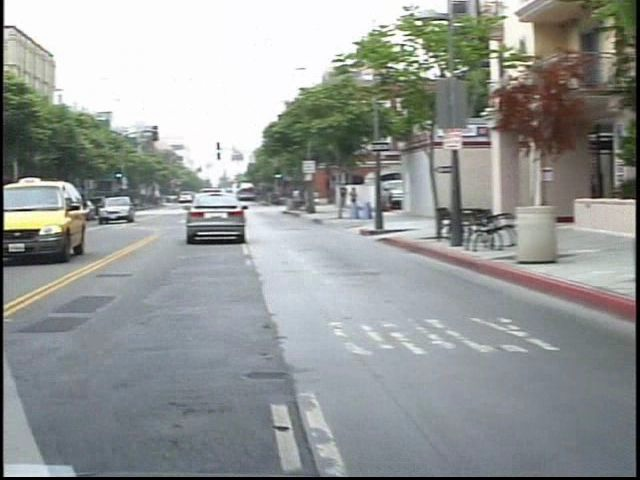person: (336, 186, 351, 221)
